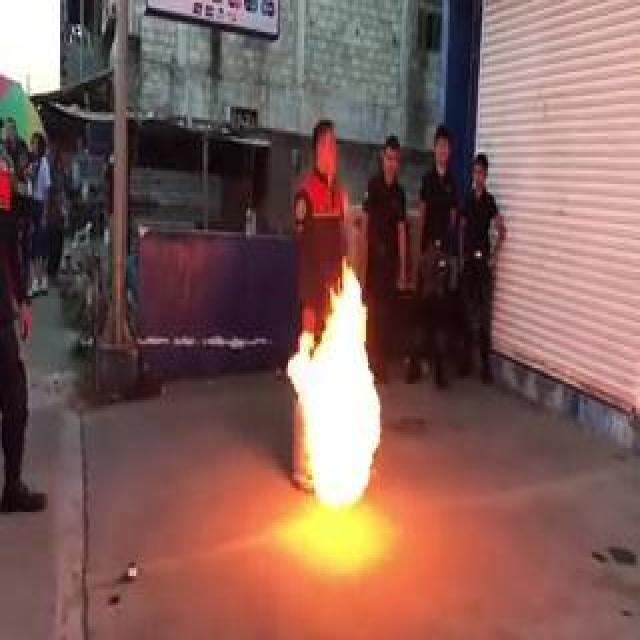Fire: (284, 252, 378, 519)
